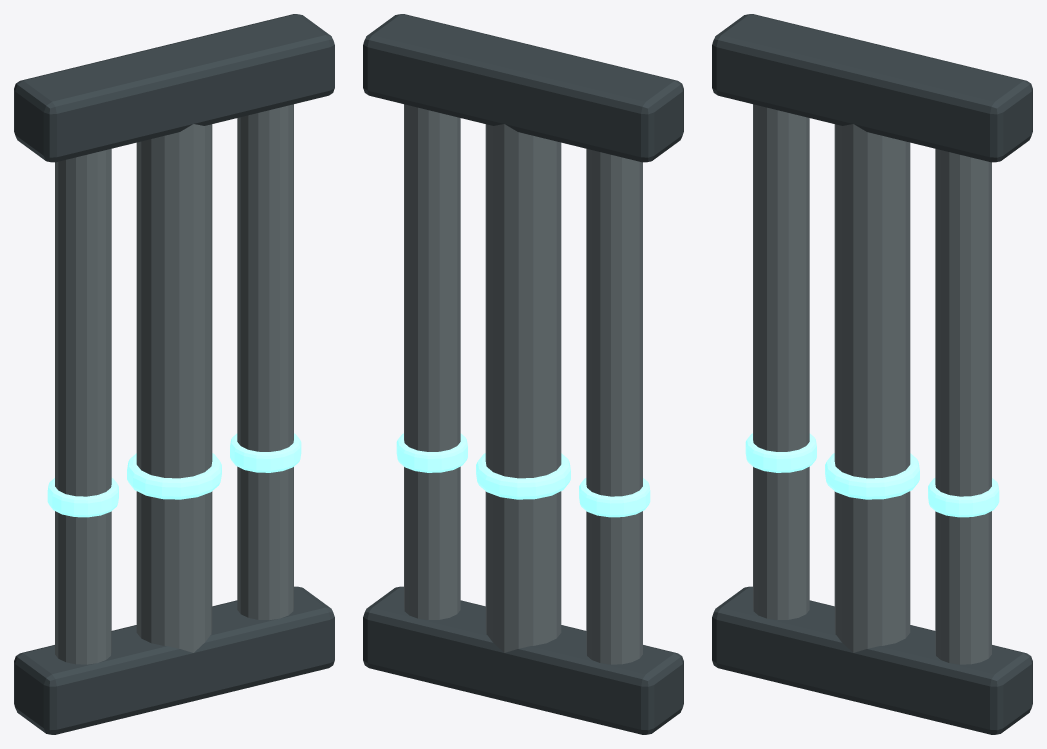
Rendered from PipeCluster_A.fbx.
The picture shows the model from 3 angles, left to right: view 1: azimuth 30°, elevation 25°; view 2: azimuth 150°, elevation 25°; view 3: azimuth 330°, elevation 25°; orthographic projection.
Visible parts, largest first — view 1: Utility Pipe.001, Pipe Mount Top, Utility Pipe, Utility Pipe.002, Pipe Mount Bottom, Pipe Status Ring.001, Pipe Status Ring, Pipe Status Ring.002; view 2: Utility Pipe.001, Pipe Mount Top, Utility Pipe, Utility Pipe.002, Pipe Mount Bottom, Pipe Status Ring.001, Pipe Status Ring, Pipe Status Ring.002; view 3: Utility Pipe.001, Pipe Mount Top, Utility Pipe.002, Utility Pipe, Pipe Mount Bottom, Pipe Status Ring.001, Pipe Status Ring.002, Pipe Status Ring.
Part boxes in pixels (box(x1,y1,x2,y2)): Utility Pipe.001: box(136, 124, 212, 652); Pipe Mount Top: box(14, 14, 334, 162); Utility Pipe: box(55, 148, 111, 664); Utility Pipe.002: box(237, 104, 293, 620); Pipe Mount Bottom: box(14, 586, 334, 734); Pipe Status Ring.001: box(127, 453, 221, 499); Pipe Status Ring: box(47, 478, 118, 517); Pipe Status Ring.002: box(230, 433, 301, 472); Utility Pipe.001: box(485, 124, 561, 652); Pipe Mount Top: box(363, 14, 683, 162); Utility Pipe: box(586, 148, 642, 664); Utility Pipe.002: box(404, 104, 460, 620); Pipe Mount Bottom: box(363, 586, 683, 734); Pipe Status Ring.001: box(476, 453, 570, 499); Pipe Status Ring: box(579, 478, 650, 517); Pipe Status Ring.002: box(396, 433, 467, 472); Utility Pipe.001: box(834, 124, 910, 652); Pipe Mount Top: box(712, 14, 1032, 162); Utility Pipe.002: box(935, 148, 991, 664); Utility Pipe: box(753, 104, 809, 620); Pipe Mount Bottom: box(712, 586, 1032, 734); Pipe Status Ring.001: box(825, 453, 919, 499); Pipe Status Ring.002: box(928, 478, 999, 517); Pipe Status Ring: box(745, 433, 816, 472).
Size of the model in its own units: 1.4 by 2.92 by 0.4.
